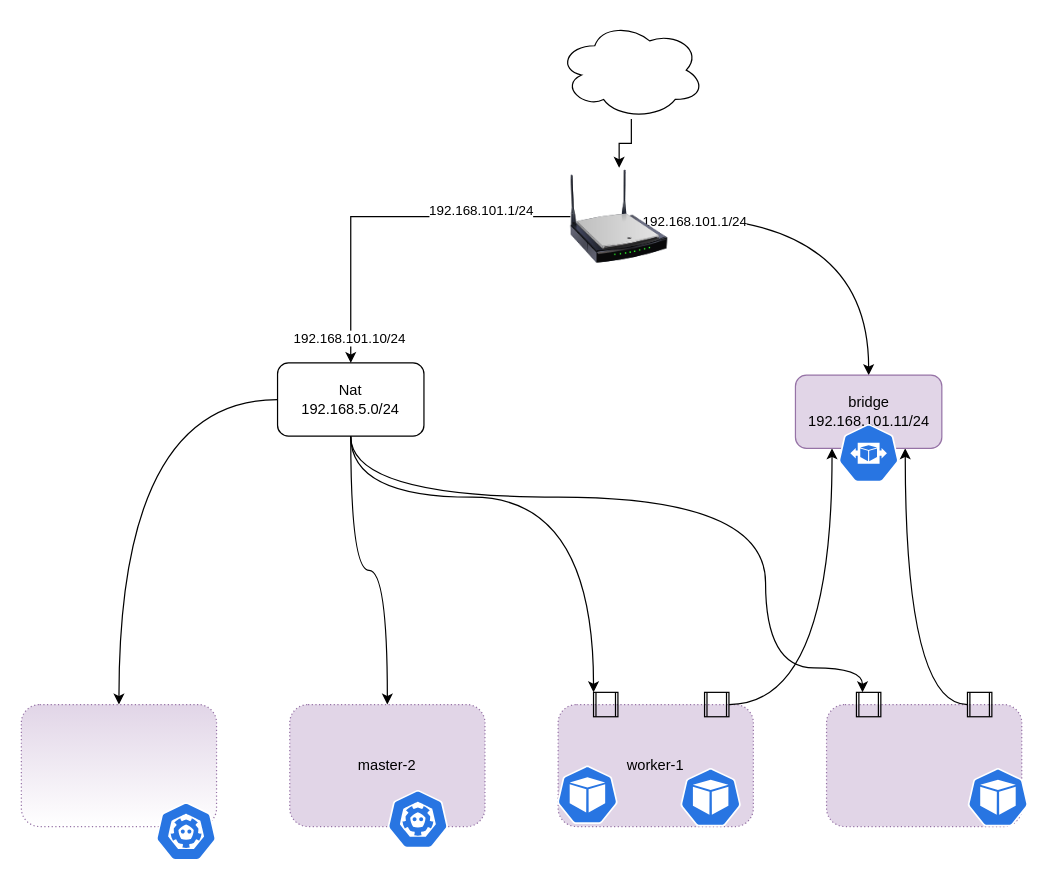
Some shapes in this 1050 by 882 pixel diagram are drawn without their labels. Each missing label, with the box of its shape:
master-1: (20, 703, 217, 827)
worker-2: (825, 703, 1022, 827)
